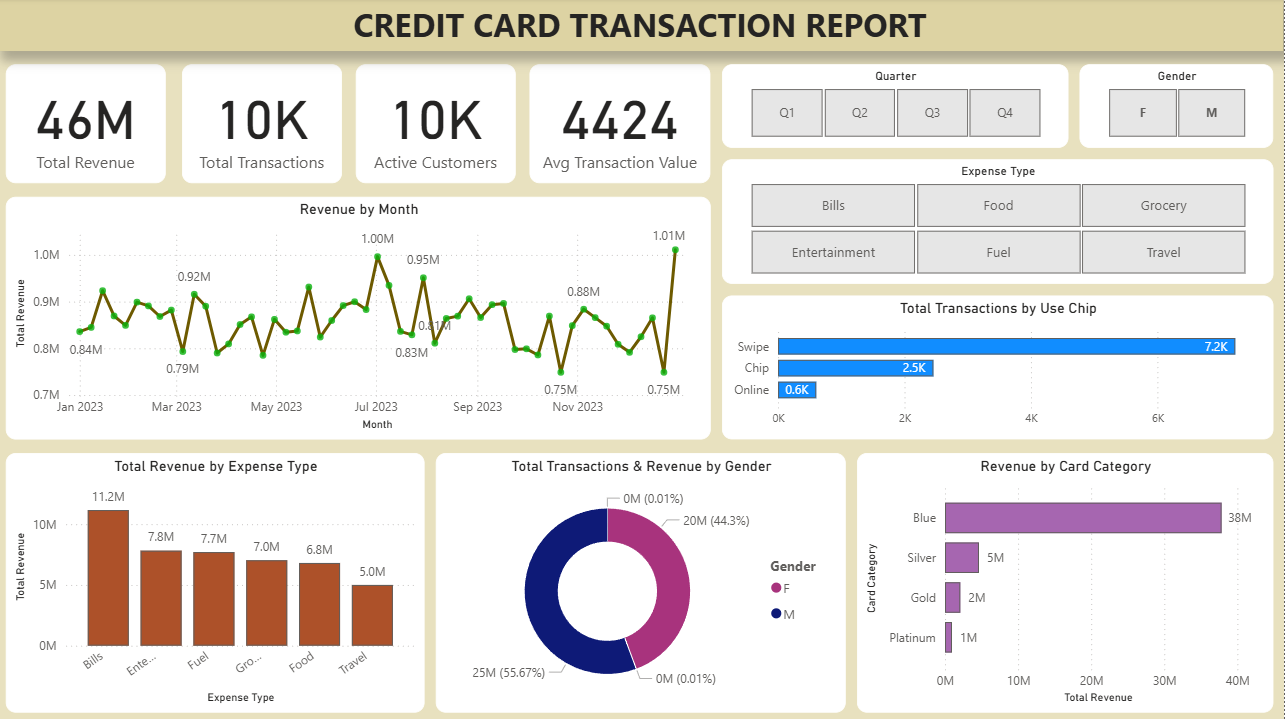

What the dashboard file says about the page in this screenshot:
{"tool":"powerbi","page":{"name":"Credit Card Transaction","canvas":[1280,720],"ordinal":1},"visuals":[{"type":"card","fields":{"Values":["CreditCard.Total Revenue"]},"box":[8.7,65.9,159.2,118.2],"z":0},{"type":"card","fields":{"Values":["CreditCard.Total Transactions"]},"box":[184.1,65.9,159.2,118.2],"z":1000},{"type":"card","fields":{"Values":["CreditCard.Active Customers"]},"box":[357,65.9,159.2,118.2],"z":2000},{"type":"card","fields":{"Values":["CreditCard.Average Transaction Value"]},"box":[529.9,65.9,180.4,118.2],"z":3000},{"type":"textbox","box":[0,0,1280,52.5],"z":4000},{"type":"lineChart","title":"Revenue by Month","fields":{"Y":["CreditCard.Total Revenue"],"Category":["DateTable.Date"]},"box":[8.7,197.8,701.6,241.3],"z":5000},{"type":"slicer","title":"Gender","fields":{"Values":["customer.Gender"]},"box":[1077.3,65.9,192.8,83.3],"z":6000},{"type":"clusteredColumnChart","title":"Total Revenue by Expense Type","fields":{"Category":["CreditCard.Exp Type"],"Y":["CreditCard.Total Revenue"]},"box":[8.7,452.8,416.7,258.7],"z":7000},{"type":"donutChart","title":"Total Transactions & Revenue by Gender","fields":{"Y":["CreditCard.Total Transactions","CreditCard.Total Revenue"],"Category":["customer.Gender"]},"box":[436.6,452.8,408,258.7],"z":8000},{"type":"slicer","title":"Quarter","fields":{"Values":["DateTable.Quarter"]},"box":[721.5,65.9,344.6,83.3],"z":9000},{"type":"slicer","title":"Expense Type","fields":{"Values":["CreditCard.Exp Type"]},"box":[721.5,160.5,548.6,124.4],"z":10000},{"type":"clusteredBarChart","fields":{"Category":["CreditCard.Use Chip"],"Y":["CreditCard.Total Transactions"]},"box":[721.5,296.1,548.6,143.1],"z":10001},{"type":"clusteredBarChart","title":"Revenue by Card Category","fields":{"Category":["CreditCard.Card_Category"],"Y":["CreditCard.Total Revenue"]},"box":[855.8,452.8,414.2,258.7],"z":10002}]}

Visuals, with their boxes in screenshot pixels (x1, y1, x2, y2), scaled from the page's 1280x720 canvas onto the 1285x719 screenshot:
card - CreditCard.Total Revenue: 9/66/169/184
card - CreditCard.Total Transactions: 185/66/345/184
card - CreditCard.Active Customers: 358/66/518/184
card - CreditCard.Average Transaction Value: 532/66/713/184
textbox: 0/0/1284/52
"Revenue by Month" lineChart: 9/198/713/438
"Gender" slicer: 1082/66/1275/149
"Total Revenue by Expense Type" clusteredColumnChart: 9/452/427/711
"Total Transactions & Revenue by Gender" donutChart: 438/452/848/711
"Quarter" slicer: 724/66/1070/149
"Expense Type" slicer: 724/160/1275/285
clusteredBarChart - CreditCard.Use Chip x CreditCard.Total Transactions: 724/296/1275/439
"Revenue by Card Category" clusteredBarChart: 859/452/1275/711
